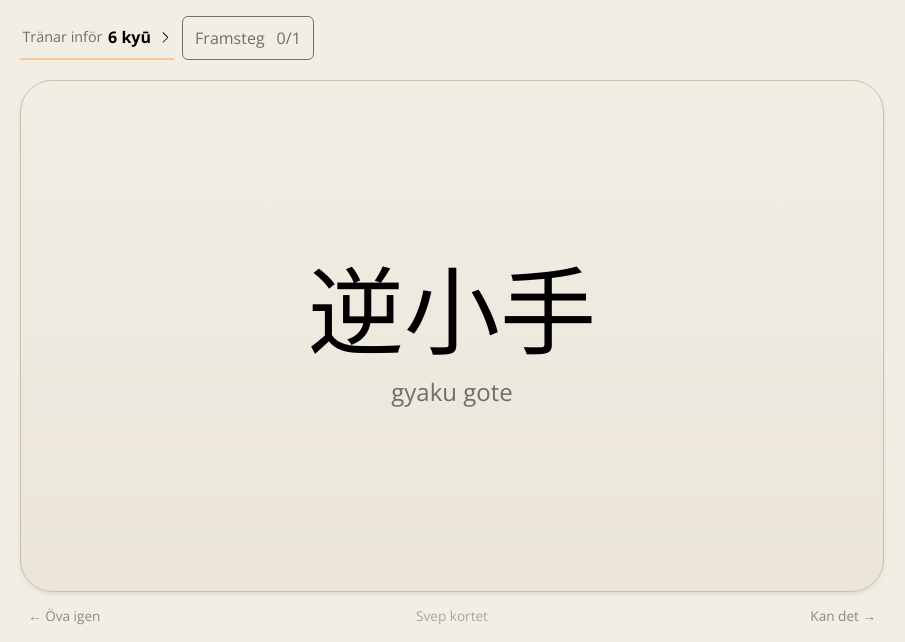
shows a hokei name on the front and details with editable notes on the back
The image size is (905, 642).
Expected: the text with class "flashcard-hokei-romaji" reads "gyaku gote", [391,375,513,408]
Click the heading "逆小手" at (452, 313), box [308,262,596,363]
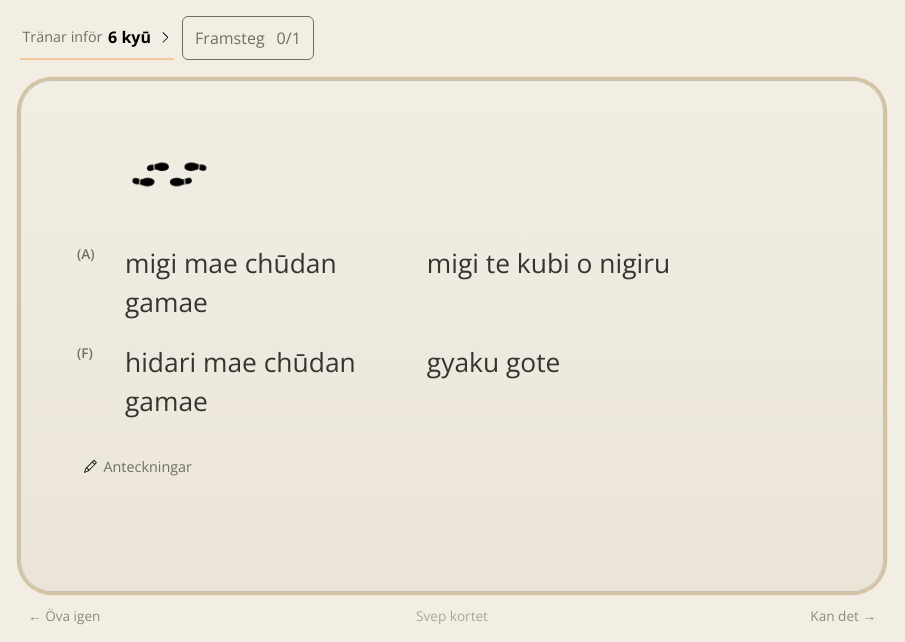
Expected: the text "migi mae chūdan gamae" is shown, [125,245,337,320]
Expected: the element with class "flashcard-scene" has class "is-flipped"
Click the button named "Lägg till anteckningar för gyaku gote" at (90, 466), box [77,453,103,480]
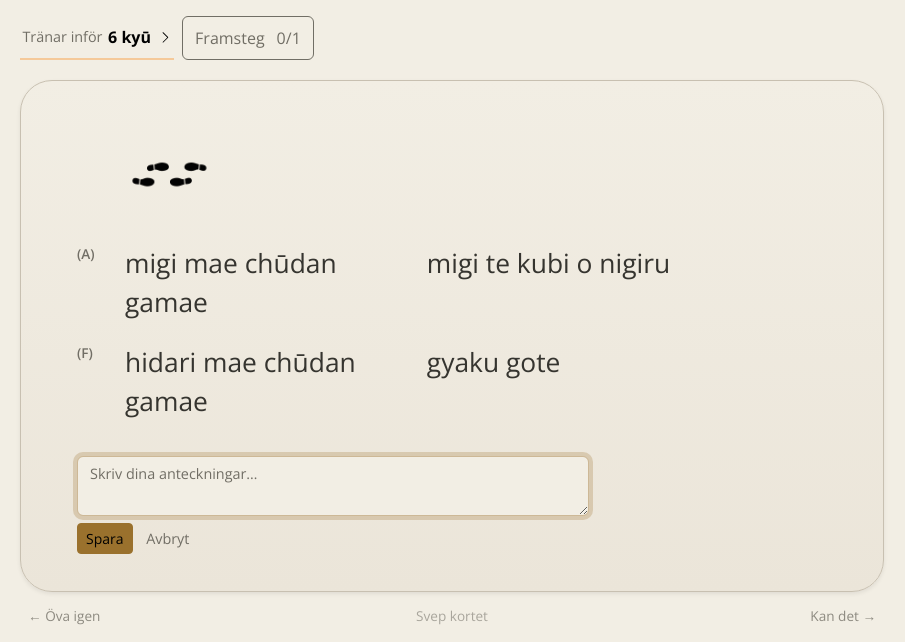
Type "Träna lugnare" into the text box named "Anteckningar för gyaku gote" at (333, 486), box [77,456,589,516]
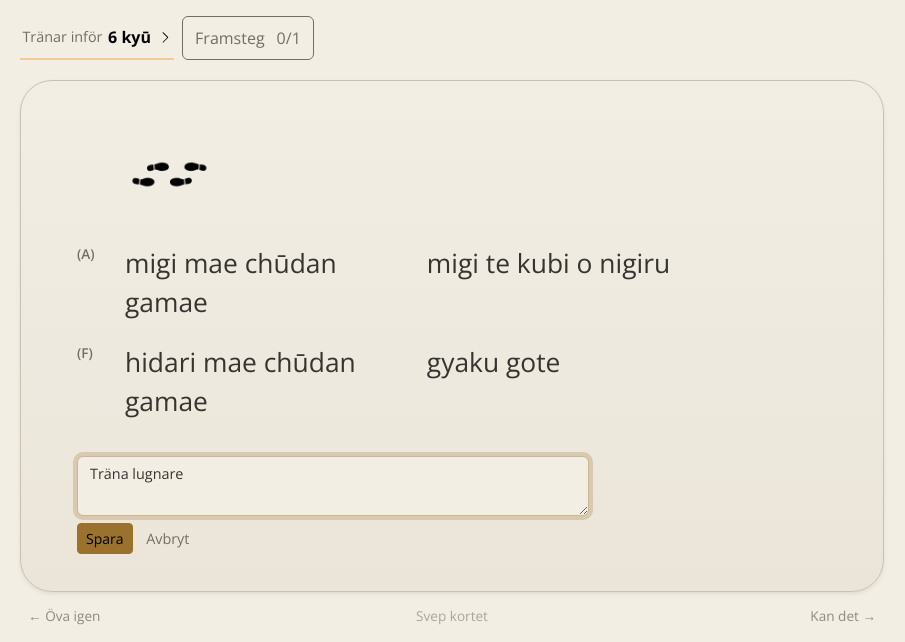
Expected: the element with class "flashcard-scene" has class "is-flipped"
Click the button "Spara" at (105, 538), box [77,523,132,554]
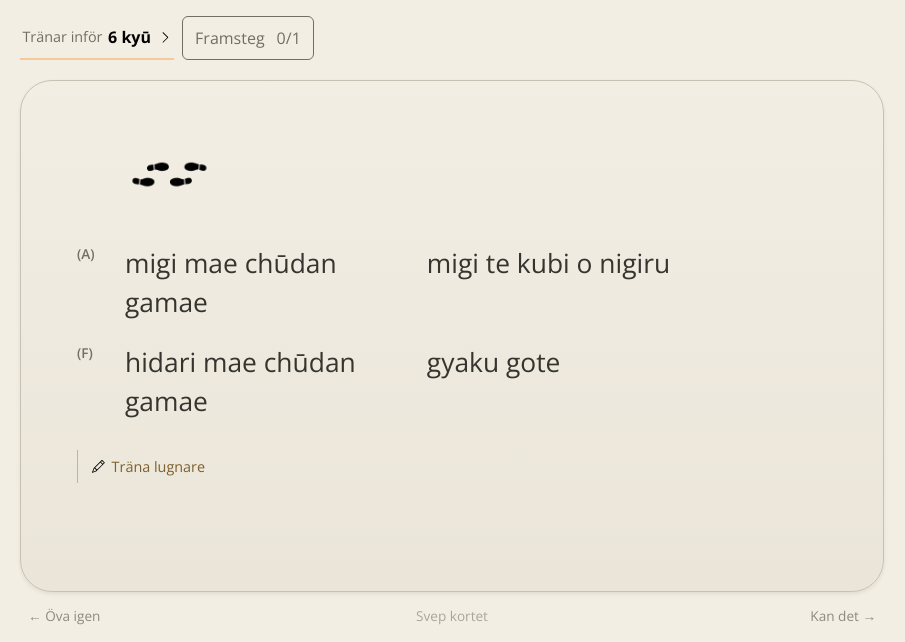
Expected: the text "Träna lugnare" is shown, [112,456,205,477]
